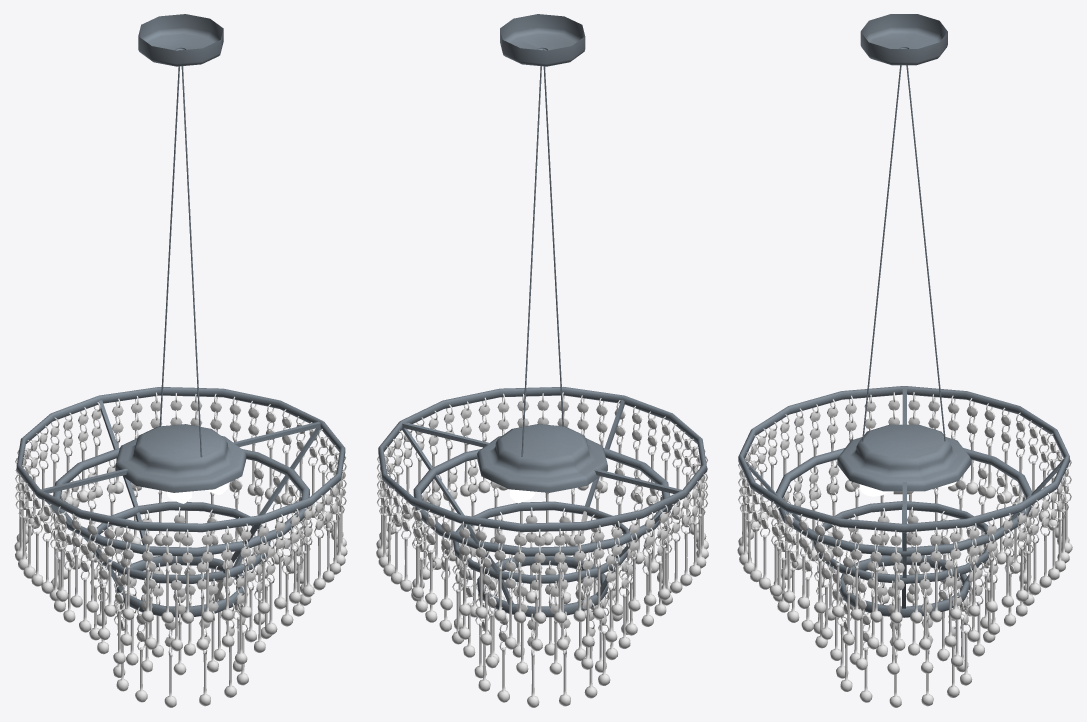
The model's file is Lights_Chandelier_1.fbx.
The picture shows the model from 3 angles, left to right: view 1: azimuth 30°, elevation 25°; view 2: azimuth 150°, elevation 25°; view 3: azimuth 270°, elevation 25°; orthographic projection.
Visible parts, largest first — view 1: Cylinder.032; view 2: Cylinder.032; view 3: Cylinder.032.
Part boxes in pixels (x1,y1,x2,y2): Cylinder.032: (14,14,347,707); Cylinder.032: (376,14,708,707); Cylinder.032: (737,14,1072,707).
Bounding box in the file's own units: 131 × 283 × 132.
